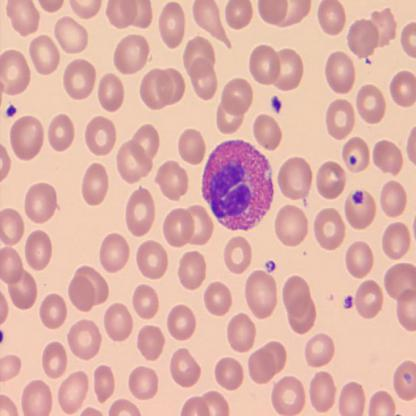Eosinophil: (202, 140, 277, 230)
